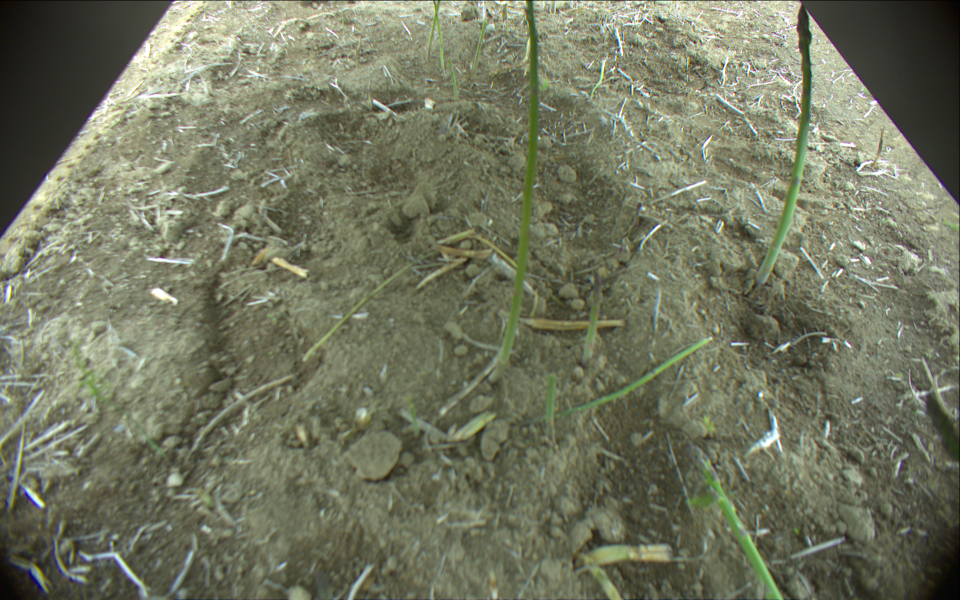aspa: (494, 1, 545, 365), (525, 337, 715, 427), (753, 2, 812, 284), (302, 251, 435, 363), (694, 445, 786, 600), (577, 271, 603, 370), (430, 1, 448, 71), (470, 16, 489, 76), (546, 372, 560, 450), (428, 1, 441, 66), (870, 126, 885, 178), (449, 59, 460, 98)
